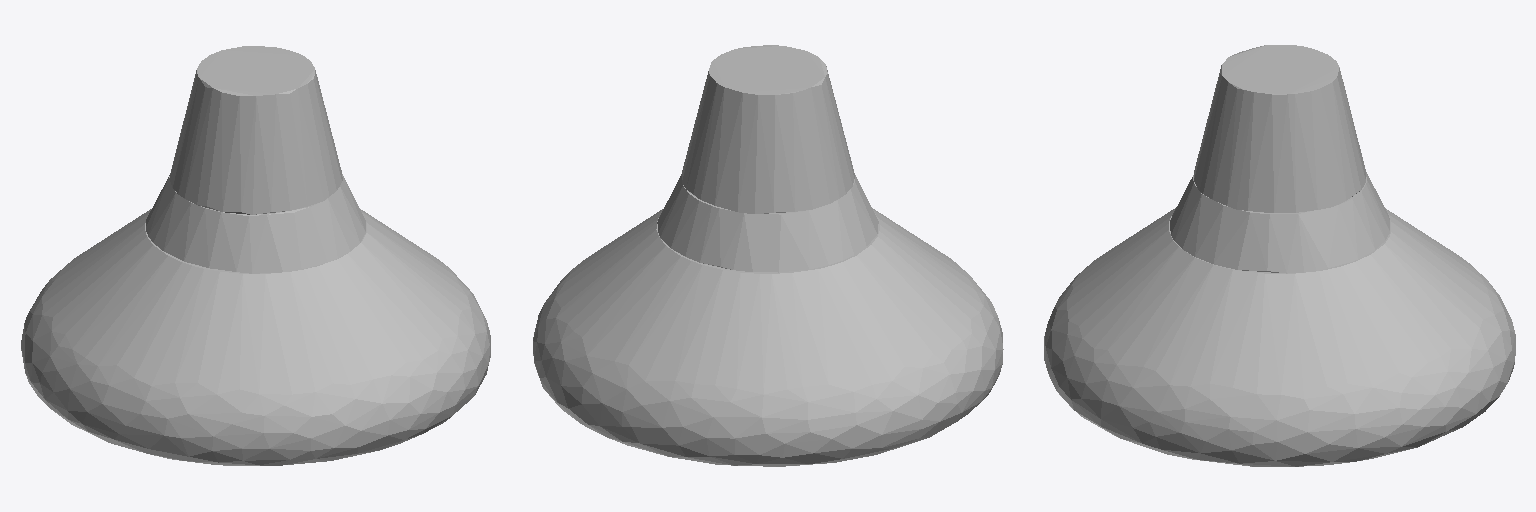
The robot description file, URDF, robot "root":
<robot name="root">
  <link name="link_hershey top cut off_convex_piece_0">
    <inertial>
      <origin xyz="0 0 0" rpy="0 0 0"/>
      <mass value="9.82E-03"/>
      <inertia ixx="1.25E-05" ixy="3.94E-11" ixz="-1.20E-09" iyy="1.25E-05" iyz="1.75E-09" izz="9.73E-07"/>
    </inertial>
    <visual>
      <origin xyz="0 0 0" rpy="0 0 0"/>
      <geometry>
        <mesh filename="hershey top cut off_convex_piece_0.obj" scale="1.0000E+00 1.0000E+00 1.0000E+00"/>
      </geometry>
      <material name="">
        <color rgba="7.50E-01 7.50E-01 7.50E-01 1"/>
      </material>
    </visual>
    <collision>
      <origin xyz="0 0 0" rpy="0 0 0"/>
      <geometry>
        <mesh filename="hershey top cut off_convex_piece_0.obj" scale="1.0000E+00 1.0000E+00 1.0000E+00"/>
      </geometry>
    </collision>
  </link>
  <link name="link_hershey top cut off_convex_piece_1">
    <inertial>
      <origin xyz="0 0 0" rpy="0 0 0"/>
      <mass value="7.99E-03"/>
      <inertia ixx="3.69E-06" ixy="-2.90E-09" ixz="-2.67E-10" iyy="3.69E-06" iyz="2.09E-09" izz="1.40E-06"/>
    </inertial>
    <visual>
      <origin xyz="0 0 0" rpy="0 0 0"/>
      <geometry>
        <mesh filename="hershey top cut off_convex_piece_1.obj" scale="1.0000E+00 1.0000E+00 1.0000E+00"/>
      </geometry>
      <material name="">
        <color rgba="7.50E-01 7.50E-01 7.50E-01 1"/>
      </material>
    </visual>
    <collision>
      <origin xyz="0 0 0" rpy="0 0 0"/>
      <geometry>
        <mesh filename="hershey top cut off_convex_piece_1.obj" scale="1.0000E+00 1.0000E+00 1.0000E+00"/>
      </geometry>
    </collision>
  </link>
  <joint name="link_hershey top cut off_convex_piece_1_joint" type="fixed">
    <origin xyz="0 0 0" rpy="0 0 0"/>
    <parent link="link_hershey top cut off_convex_piece_0"/>
    <child link="link_hershey top cut off_convex_piece_1"/>
  </joint>
  <link name="link_hershey top cut off_convex_piece_2">
    <inertial>
      <origin xyz="0 0 0" rpy="0 0 0"/>
      <mass value="1.02E-01"/>
      <inertia ixx="4.87E-05" ixy="-2.19E-09" ixz="-3.66E-10" iyy="4.87E-05" iyz="-8.28E-10" izz="7.97E-05"/>
    </inertial>
    <visual>
      <origin xyz="0 0 0" rpy="0 0 0"/>
      <geometry>
        <mesh filename="hershey top cut off_convex_piece_2.obj" scale="1.0000E+00 1.0000E+00 1.0000E+00"/>
      </geometry>
      <material name="">
        <color rgba="7.50E-01 7.50E-01 7.50E-01 1"/>
      </material>
    </visual>
    <collision>
      <origin xyz="0 0 0" rpy="0 0 0"/>
      <geometry>
        <mesh filename="hershey top cut off_convex_piece_2.obj" scale="1.0000E+00 1.0000E+00 1.0000E+00"/>
      </geometry>
    </collision>
  </link>
  <joint name="link_hershey top cut off_convex_piece_2_joint" type="fixed">
    <origin xyz="0 0 0" rpy="0 0 0"/>
    <parent link="link_hershey top cut off_convex_piece_1"/>
    <child link="link_hershey top cut off_convex_piece_2"/>
  </joint>
</robot>

--- What the picture shows (computed from the rendered views, not written in the file) ---
3 views of the same robot in one strip: view 1: azimuth 30°, elevation 25°; view 2: azimuth 150°, elevation 25°; view 3: azimuth 270°, elevation 25° (orthographic).
Model root with 3 links and 2 joints (2 fixed), rooted at link_hershey top cut off_convex_piece_0, posed all joints at 0.
Visible links, largest first — view 1: link_hershey top cut off_convex_piece_2, link_hershey top cut off_convex_piece_0, link_hershey top cut off_convex_piece_1; view 2: link_hershey top cut off_convex_piece_2, link_hershey top cut off_convex_piece_0, link_hershey top cut off_convex_piece_1; view 3: link_hershey top cut off_convex_piece_2, link_hershey top cut off_convex_piece_0, link_hershey top cut off_convex_piece_1.
Link boxes in pixels (x1,y1,x2,y2): link_hershey top cut off_convex_piece_2: (21,209,490,465); link_hershey top cut off_convex_piece_0: (169,46,342,214); link_hershey top cut off_convex_piece_1: (146,174,365,273); link_hershey top cut off_convex_piece_2: (533,208,1003,466); link_hershey top cut off_convex_piece_0: (681,45,854,213); link_hershey top cut off_convex_piece_1: (657,175,878,272); link_hershey top cut off_convex_piece_2: (1044,208,1515,466); link_hershey top cut off_convex_piece_0: (1194,45,1365,212); link_hershey top cut off_convex_piece_1: (1170,172,1389,273).
Bounding box of the posed robot: 0.0883 × 0.0881 × 0.0645 m (x, y, z).
3 mesh visuals loaded from 3 distinct referenced files (3 OBJ).
